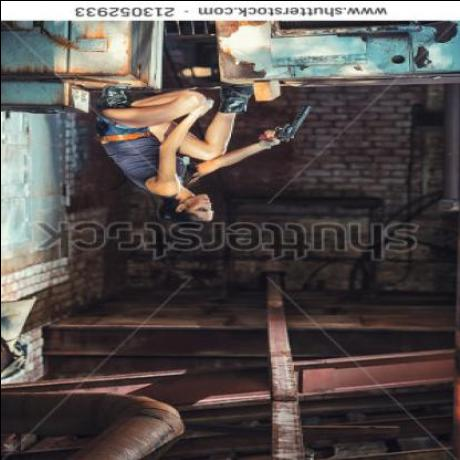1: (91, 87, 278, 228)
weapon: (254, 99, 316, 152)
